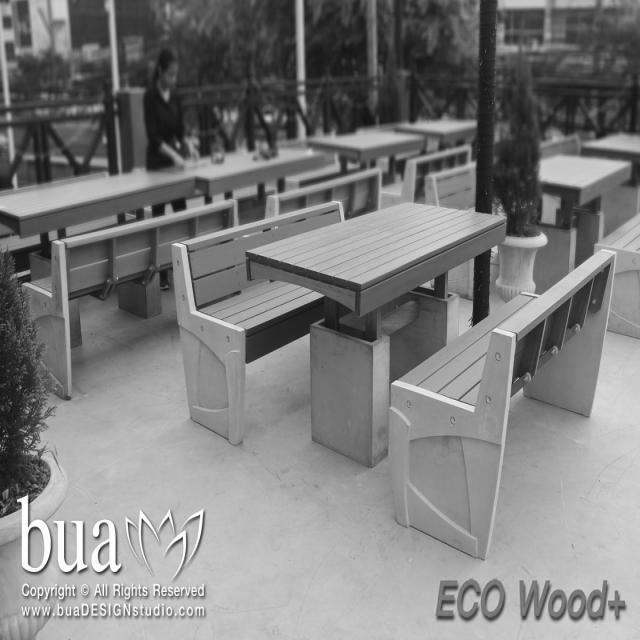table: (247, 191, 520, 318), (4, 164, 192, 256), (533, 150, 632, 212), (196, 144, 334, 188), (340, 128, 426, 169)
